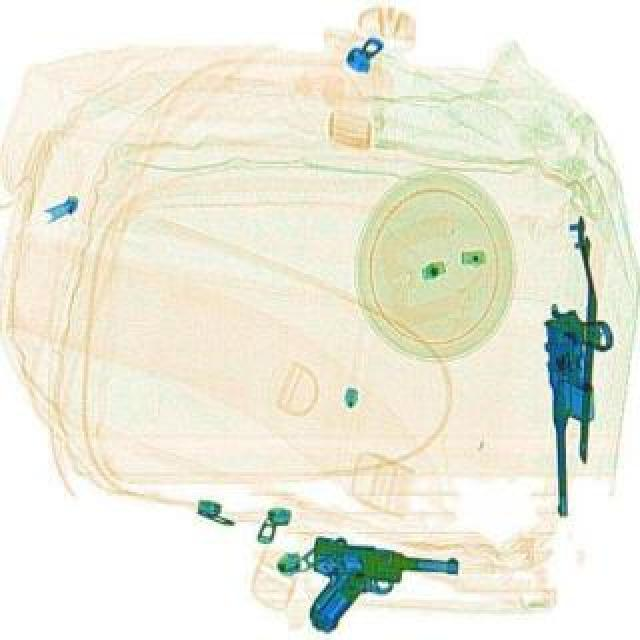gun: (540, 302, 618, 516), (302, 534, 458, 638)
